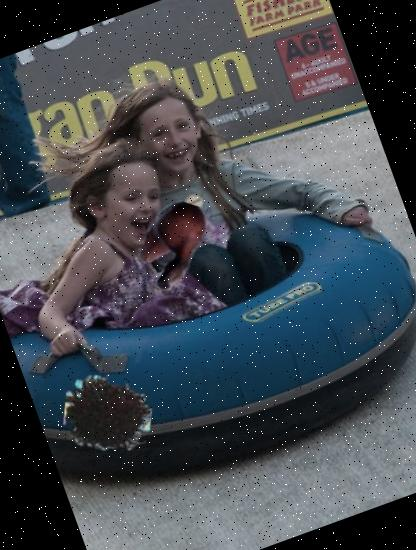Banana: (112, 186, 230, 305)
Rambutan: (53, 356, 164, 468)
